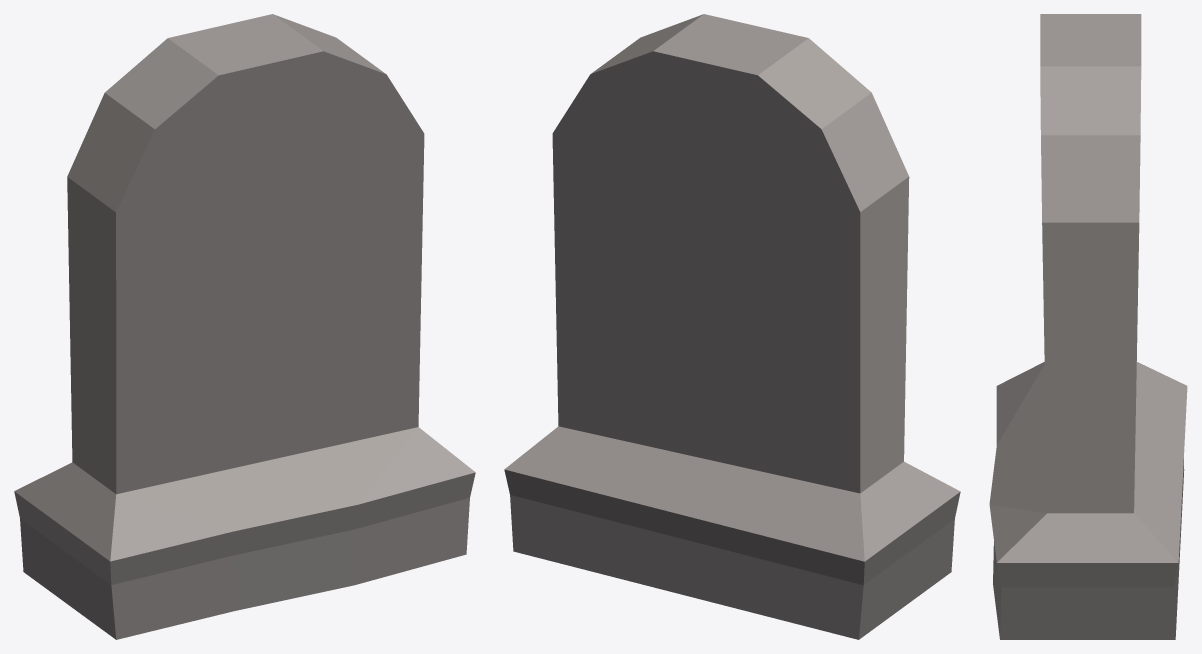
The model's file is gravestone-round.glb.
3 renders of one model, left to right at view 1: azimuth 30°, elevation 25°; view 2: azimuth 150°, elevation 25°; view 3: azimuth 270°, elevation 25°, orthographic.
Parts seen in each view (by area): view 1: gravestone-round; view 2: gravestone-round; view 3: gravestone-round.
Boxes of the visible parts, x1,y1,x2,y2 form: gravestone-round: (14, 14, 475, 639); gravestone-round: (504, 14, 960, 639); gravestone-round: (989, 14, 1187, 639).
Bounding box in the file's own units: 0.9642 × 1.31 × 0.4559.
1 material, 1 textured.
